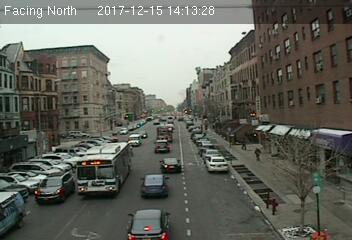bus: (74, 142, 130, 196)
car: (126, 206, 172, 240), (35, 171, 73, 203), (139, 174, 169, 196), (204, 156, 228, 173), (159, 157, 181, 173), (153, 140, 170, 152)
truck: (1, 189, 25, 235), (156, 125, 173, 139)
